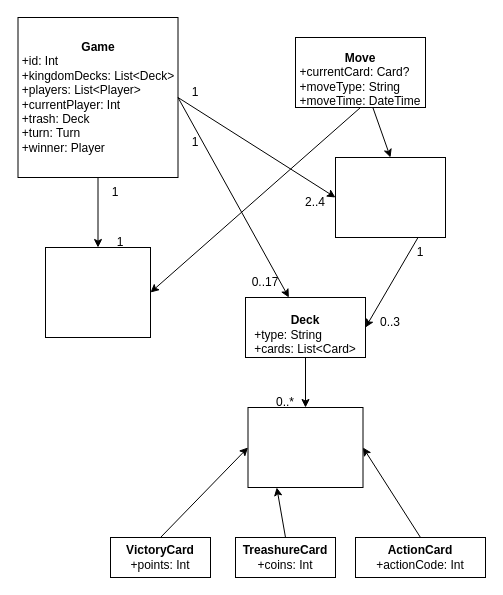
Some shapes in this 503 by 595 pixel diagram are drawn without their labels. The centre of each missing label's shape, as x and y in pixels:
Player +name: String +hand: Deck +drawPile: Deck +discardPile: Deck: the point at 390,197
Turn +move: Move +actions: Int +buys: Int +playerCoins:Int: the point at 97,292
«abstract» Card +name: String +cost: Int: the point at 305,447
